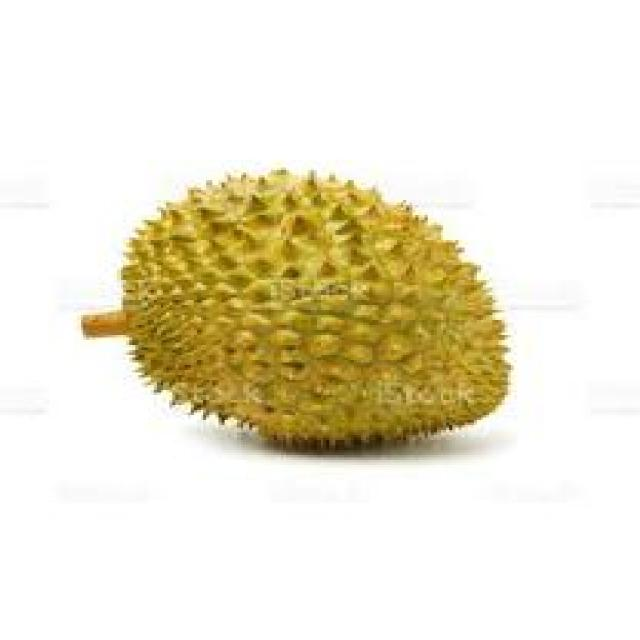Fruit: (246, 160, 511, 488)
